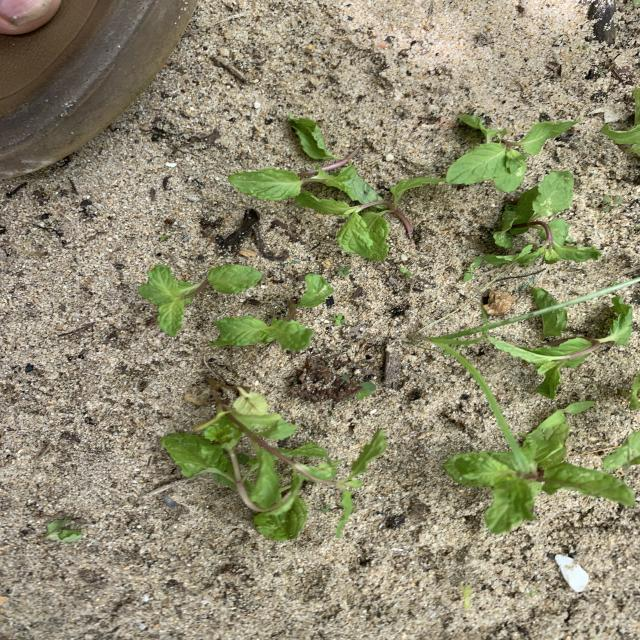crop: (160, 388, 387, 539), (231, 118, 441, 259), (444, 406, 634, 532), (502, 303, 631, 394), (484, 172, 599, 266), (446, 117, 579, 191), (214, 273, 334, 351), (139, 264, 262, 335), (604, 90, 639, 155)
weed: (407, 280, 640, 476), (46, 517, 83, 543), (462, 257, 483, 282), (357, 382, 375, 400), (461, 585, 473, 610), (337, 265, 351, 275), (332, 315, 345, 325), (399, 269, 413, 276)
